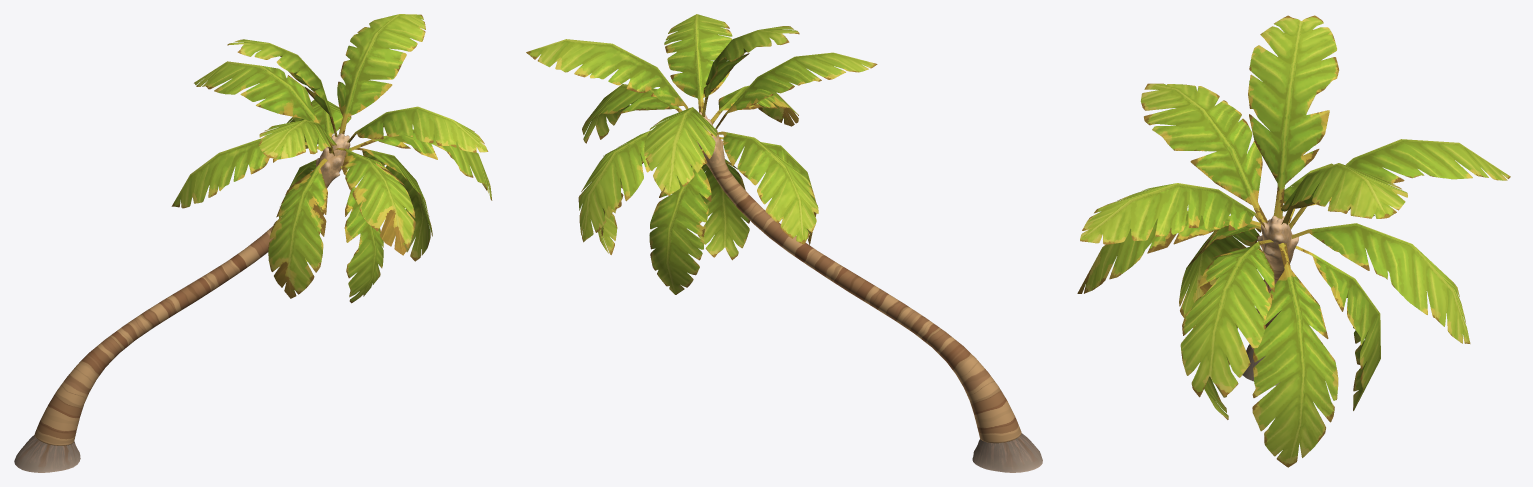
File: Palm_02_LODs.fbx
3 renders of one model, left to right at view 1: azimuth 30°, elevation 25°; view 2: azimuth 150°, elevation 25°; view 3: azimuth 270°, elevation 25°, orthographic. The views are drawn at different scales.
Parts seen in each view (by area): view 1: Palm_02_LOD0; view 2: Palm_02_LOD0; view 3: Palm_02_LOD0.
Boxes of the visible parts, bbox=[...] form: Palm_02_LOD0: bbox=[14, 14, 492, 472]; Palm_02_LOD0: bbox=[526, 14, 1042, 472]; Palm_02_LOD0: bbox=[1077, 15, 1510, 467].
Size of what is drawn, in the model's own units: 602 by 461 by 389.
